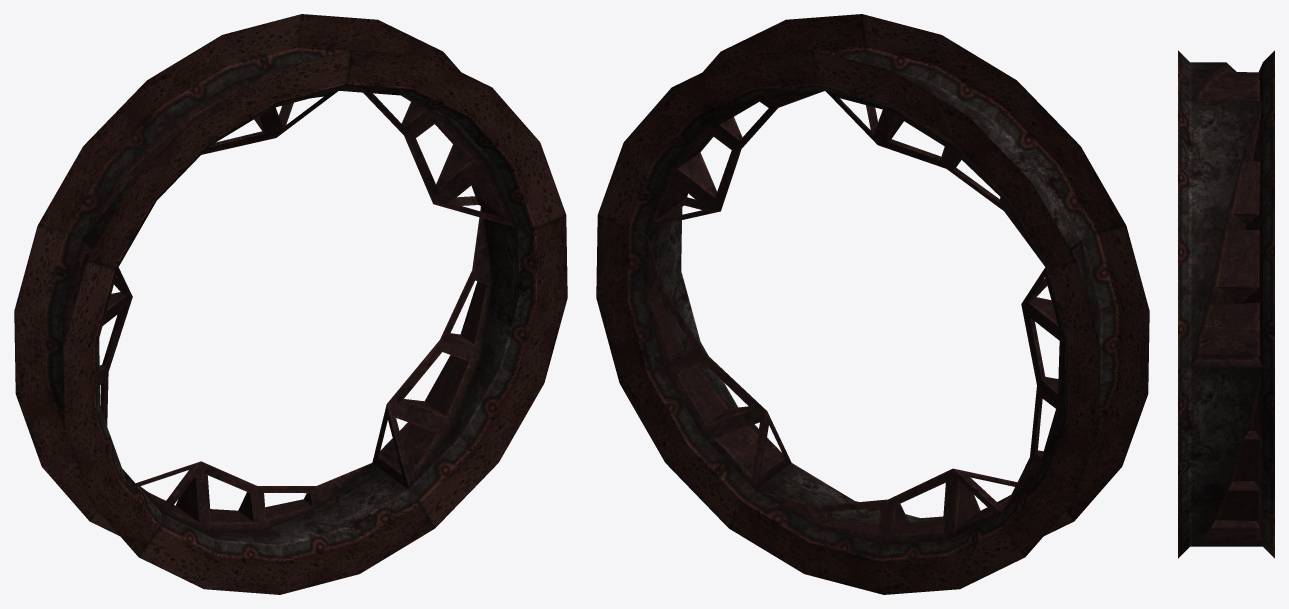
File: barrier_ring02.dae
3 views of the same model, side by side, from view 1: azimuth 30°, elevation 25°; view 2: azimuth 150°, elevation 25°; view 3: azimuth 270°, elevation 25° (orthographic).
Parts seen in each view (by area): view 1: ring2; view 2: ring2; view 3: ring2.
Boxes of the visible parts, x1,y1,x2,y2 form: ring2: (14, 14, 567, 594); ring2: (596, 14, 1149, 594); ring2: (1178, 50, 1274, 558).
Size of the model in its own units: 5.94 by 5.94 by 1.
